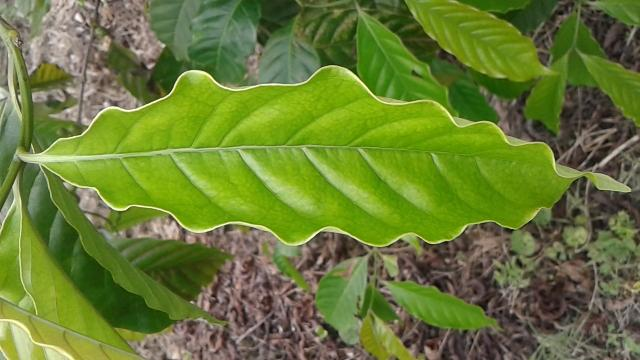healthy: (36, 65, 624, 247)
